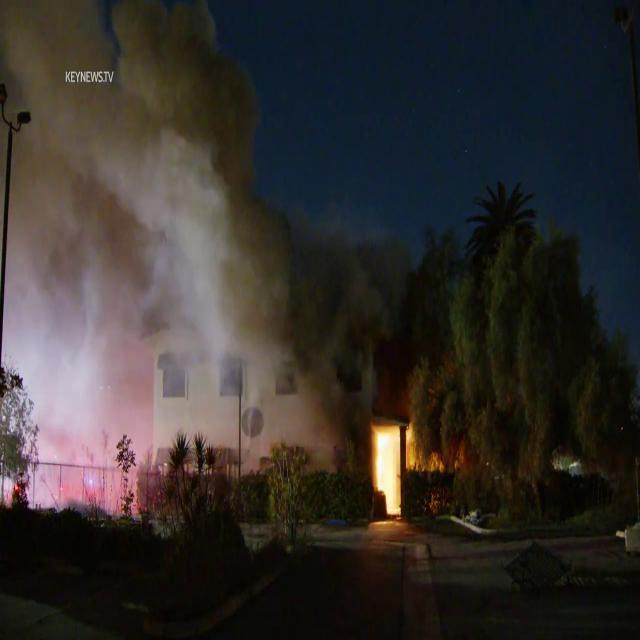Fire: (367, 416, 420, 518), (426, 446, 446, 478)
Smoke: (0, 0, 361, 459)
